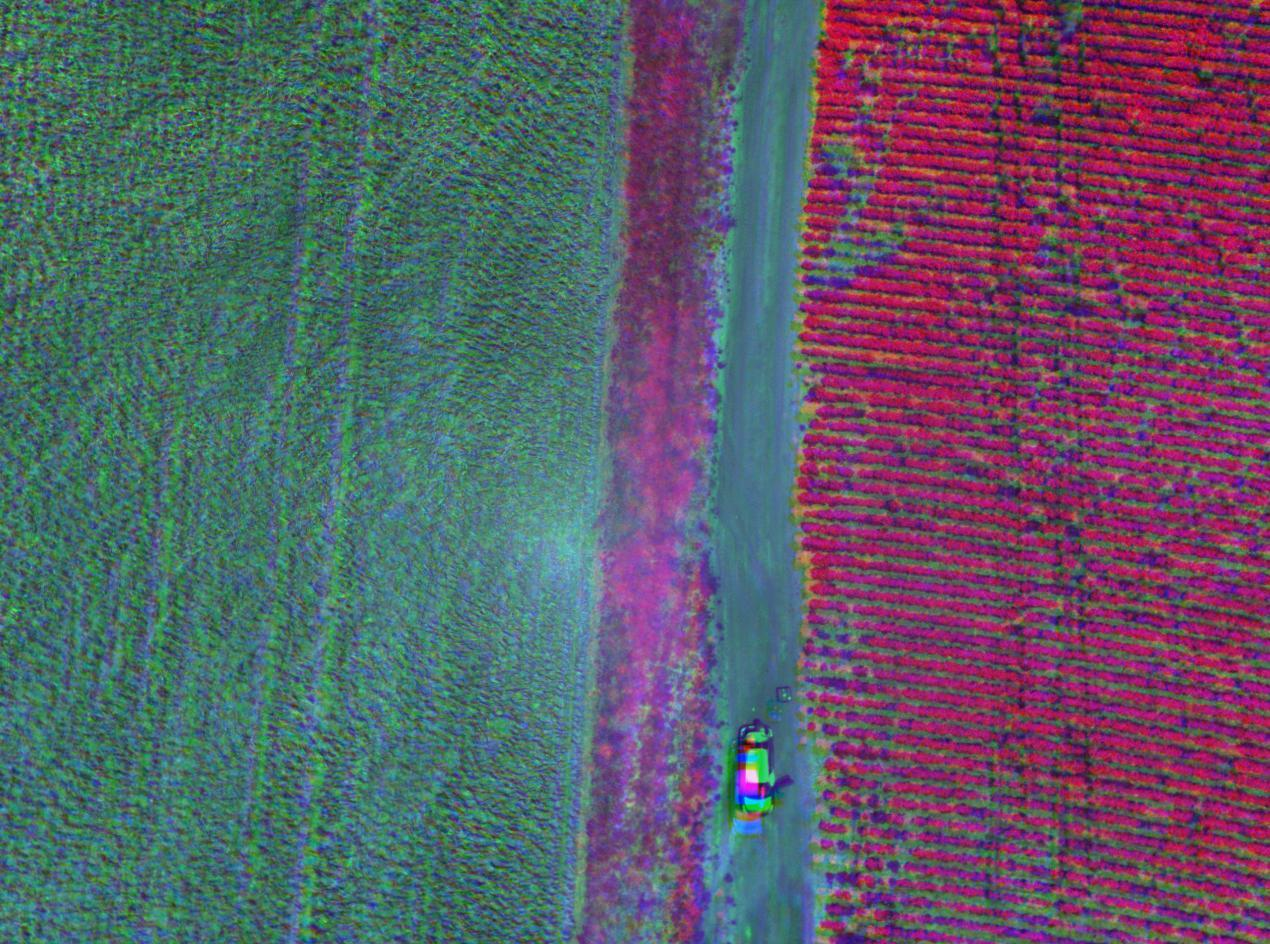dc: (819, 219, 905, 291), (830, 823, 911, 889), (811, 719, 868, 802), (1012, 830, 1064, 907), (825, 118, 881, 188), (816, 607, 861, 666)
